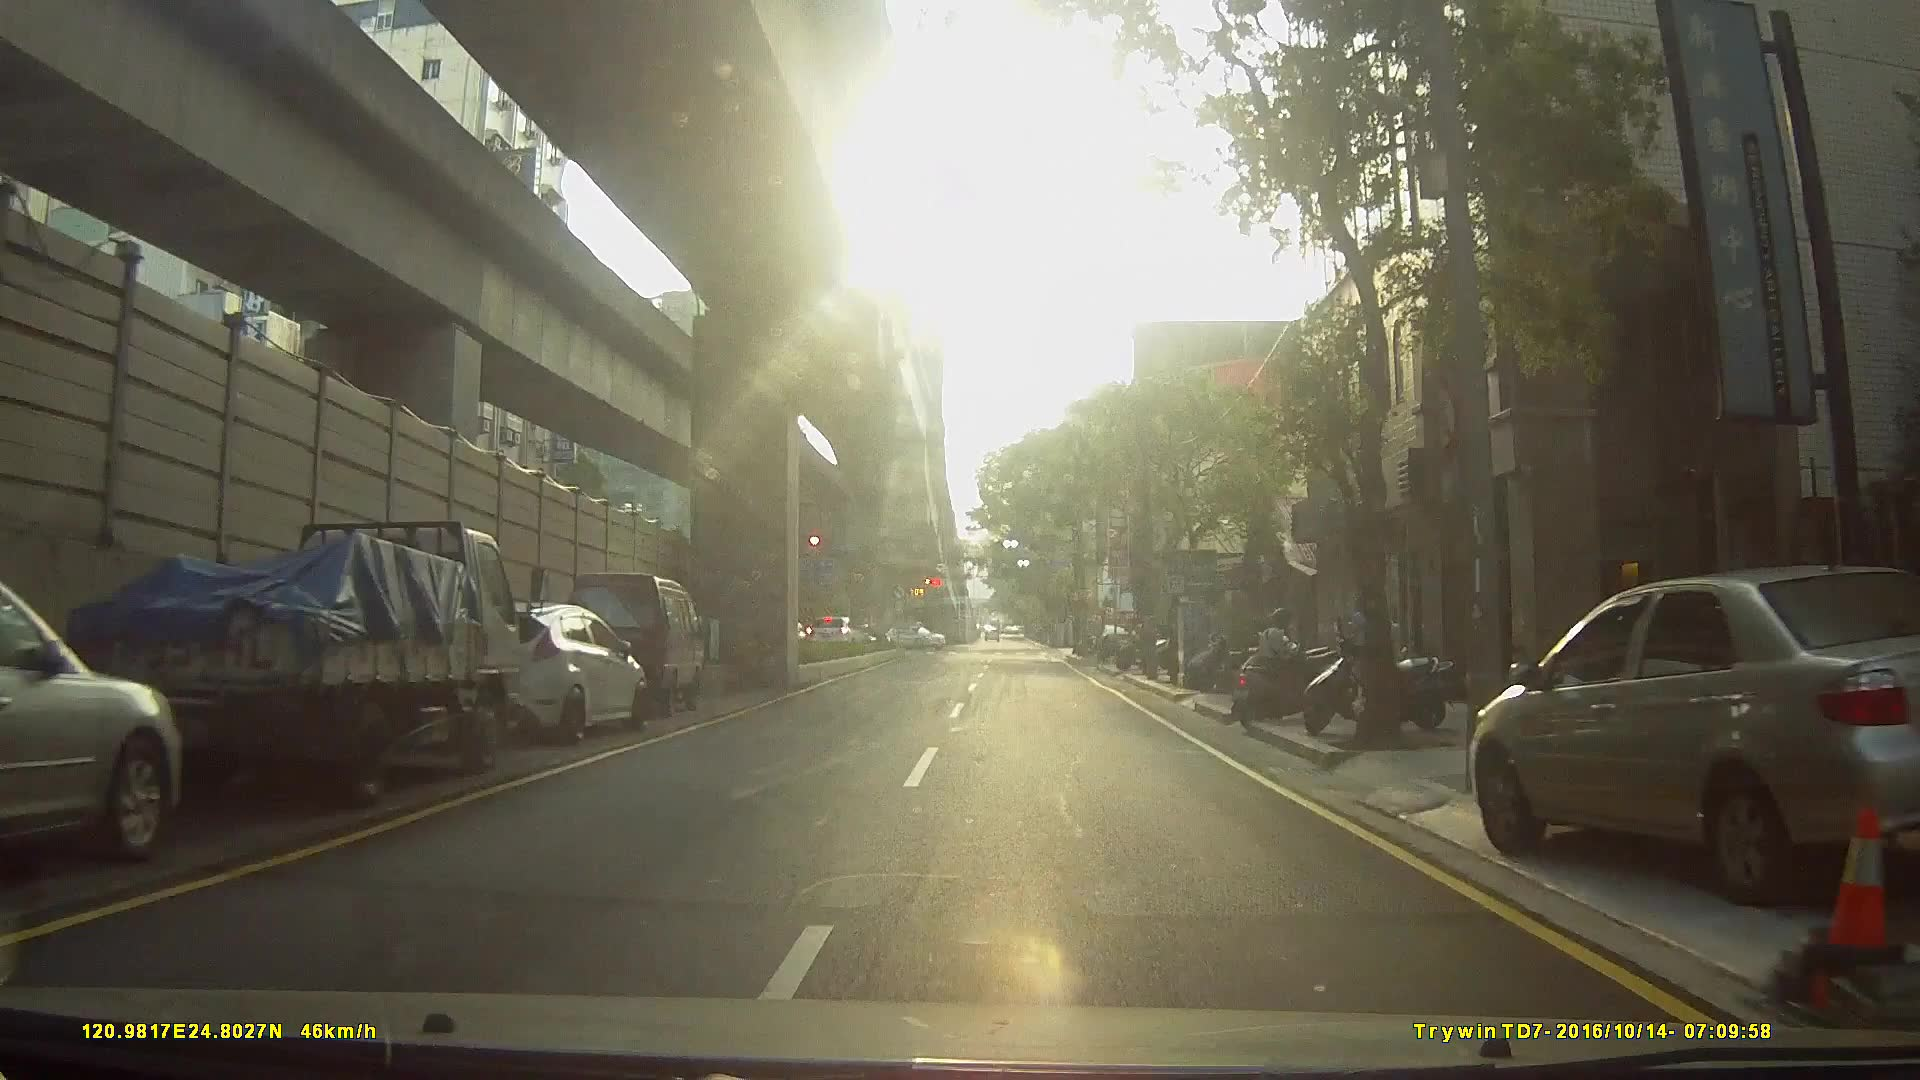rider: (1229, 610, 1338, 734)
vehicle: (1463, 547, 1920, 925), (32, 515, 562, 812), (1, 571, 197, 885), (431, 597, 644, 749), (551, 571, 700, 720), (800, 614, 863, 654), (1091, 624, 1137, 662), (883, 623, 944, 650)
